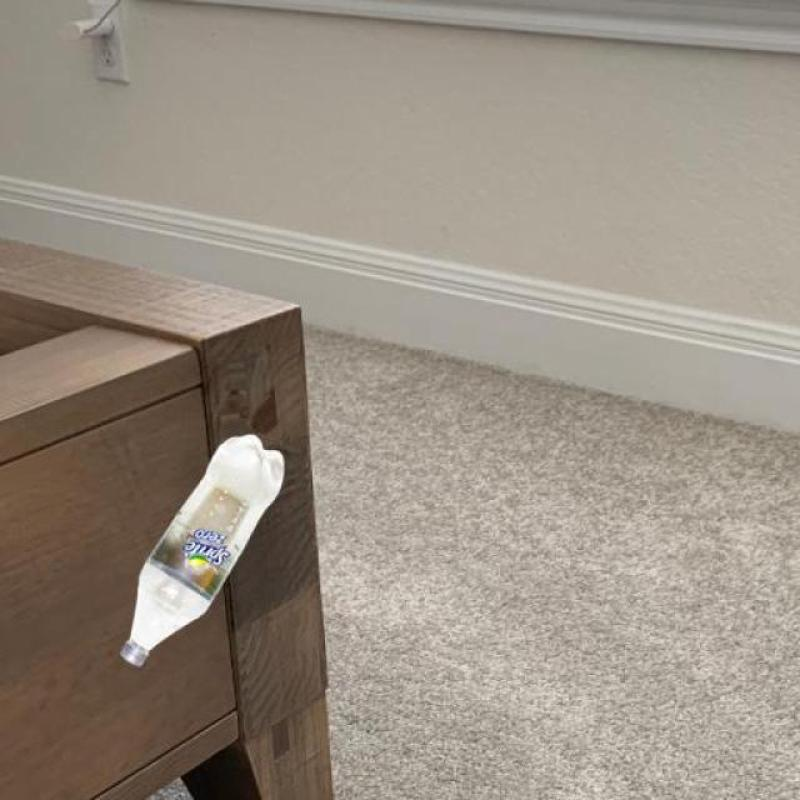botella: (119, 424, 287, 674)
